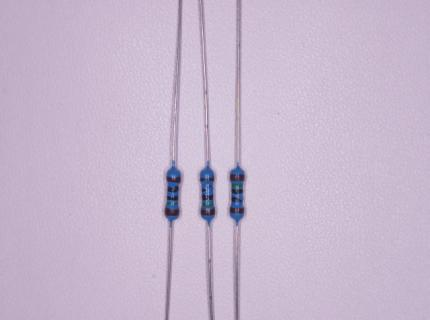Black band: (231, 197, 243, 203), (202, 194, 213, 200), (167, 187, 179, 192), (232, 189, 243, 194), (202, 188, 214, 192), (167, 196, 179, 200)
Brown band: (165, 208, 179, 216), (230, 174, 245, 181), (167, 176, 181, 183), (201, 209, 215, 215), (230, 207, 244, 213), (200, 177, 214, 181)
Green band: (202, 202, 214, 207), (232, 184, 243, 188), (166, 202, 178, 205)
